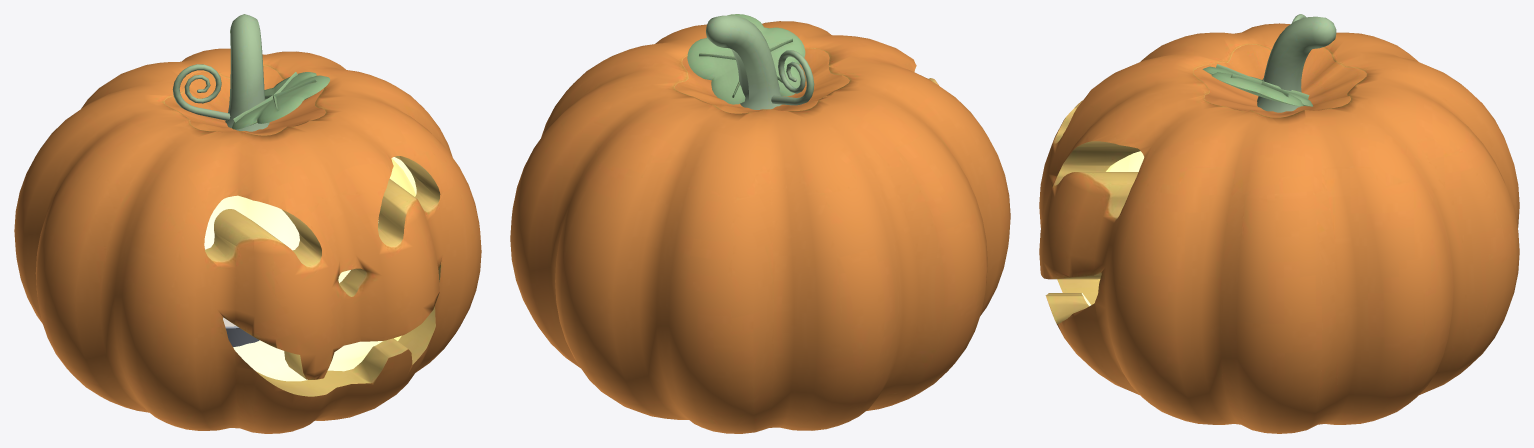
File: calabaza_farol.glb
The picture shows the model from 3 angles, left to right: view 1: azimuth 30°, elevation 25°; view 2: azimuth 150°, elevation 25°; view 3: azimuth 270°, elevation 25°; orthographic projection. The views are drawn at different scales.
Parts seen in each view (by area): view 1: pumpkin-lantern_body; view 2: pumpkin-lantern_body; view 3: pumpkin-lantern_body.
Part boxes in pixels (left/top/right/bottom): pumpkin-lantern_body: left=14, top=14, right=481, bottom=433; pumpkin-lantern_body: left=510, top=14, right=1010, bottom=433; pumpkin-lantern_body: left=1039, top=14, right=1519, bottom=433.
Size of the model in its own units: 0.39 by 0.3224 by 0.3766.
Materials: 7 (2 with a texture image).
